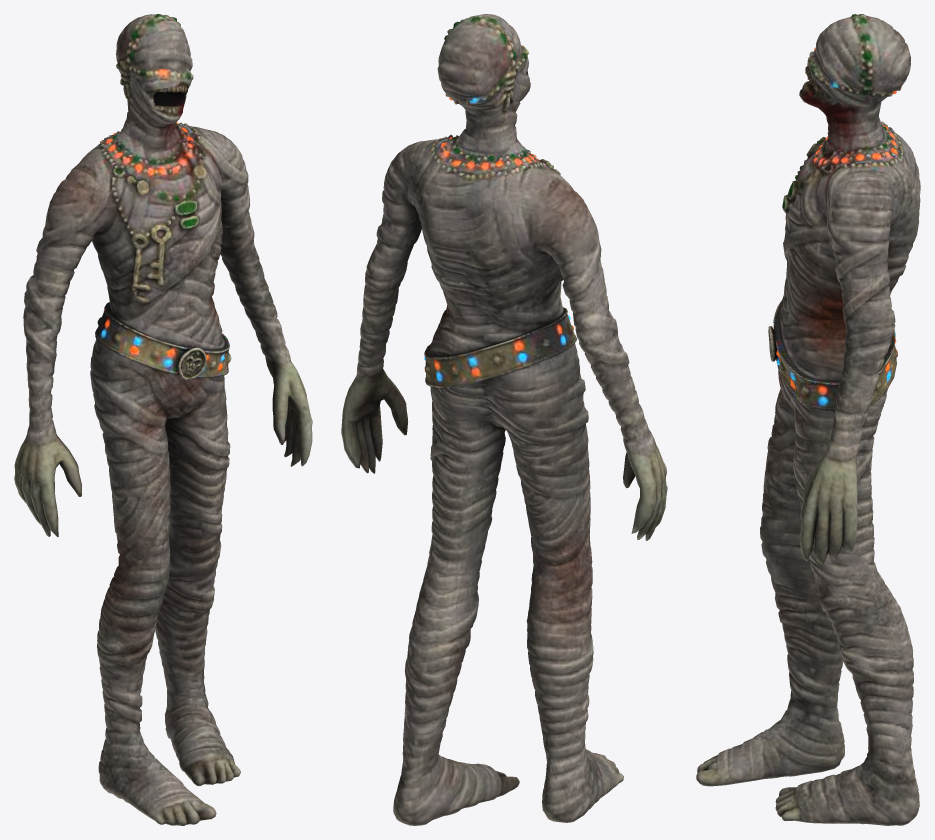
The model's file is MZ4250 - Mummy Male_2025.glb.
3 views of the same model, side by side, from view 1: azimuth 30°, elevation 25°; view 2: azimuth 150°, elevation 25°; view 3: azimuth 270°, elevation 25° (orthographic). The views are drawn at different scales.
Visible parts, largest first — view 1: Torus.001; view 2: Torus.001; view 3: Torus.001.
Part boxes in pixels (bbox=[...]): Torus.001: bbox=[14, 14, 312, 825]; Torus.001: bbox=[341, 14, 667, 825]; Torus.001: bbox=[696, 14, 920, 825].
Bounding box in the file's own units: 35.89 × 89.55 × 23.26.
1 material, 1 textured.
